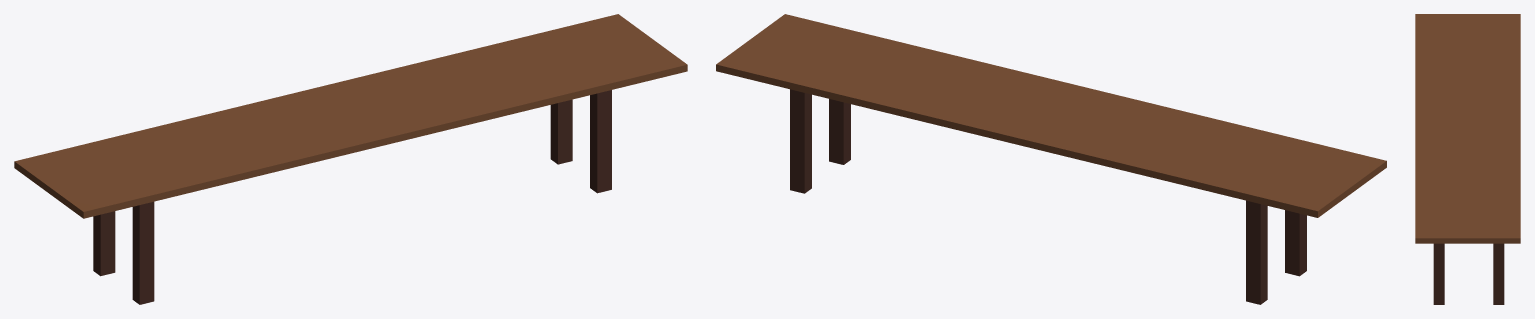
File: SM_Bench_01.fbx
3 renders of one model, left to right at view 1: azimuth 30°, elevation 25°; view 2: azimuth 150°, elevation 25°; view 3: azimuth 270°, elevation 25°, orthographic. The views are drawn at different scales.
Parts seen in each view (by area): view 1: SM_Bench_01; view 2: SM_Bench_01; view 3: SM_Bench_01.
Part boxes in pixels (x1,y1,x2,y2): SM_Bench_01: (14, 14, 687, 304); SM_Bench_01: (716, 14, 1386, 304); SM_Bench_01: (1415, 14, 1520, 304).
Size of the model in its own units: 226 by 42.3 by 44.8.
1 material, 1 textured.
